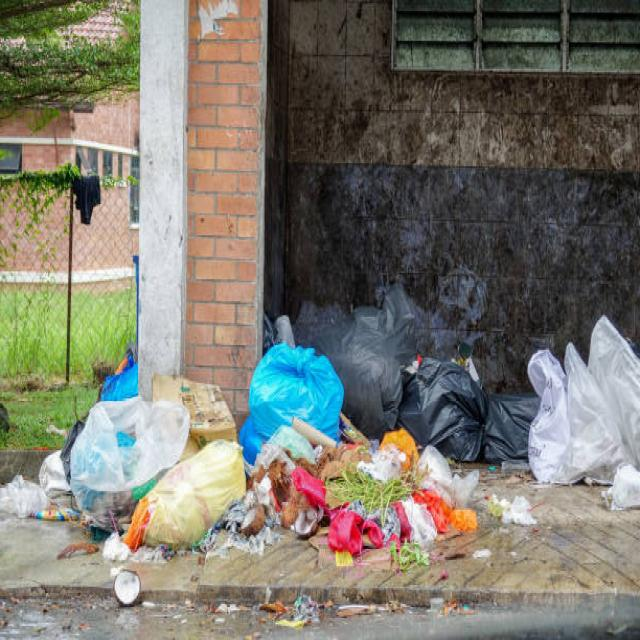garbage: (0, 239, 637, 600)
